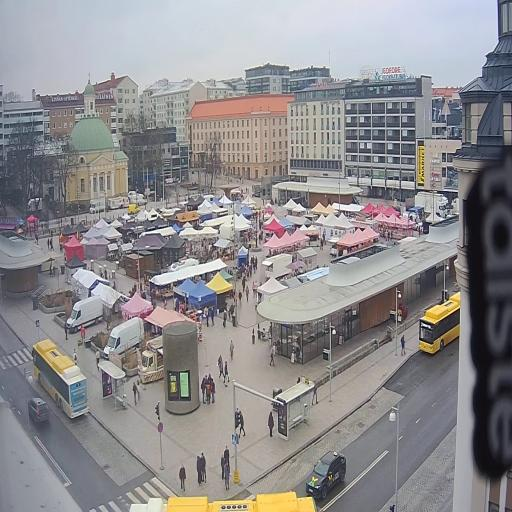bus: (31, 339, 89, 418), (130, 492, 316, 512), (419, 292, 460, 354)
car: (305, 450, 346, 500), (66, 296, 102, 332), (28, 397, 48, 423)
delivery: (103, 317, 144, 359), (66, 296, 102, 332), (139, 336, 163, 383), (415, 192, 449, 218)
